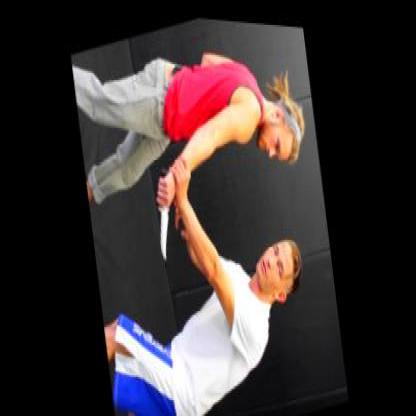knife: (148, 159, 180, 262)
